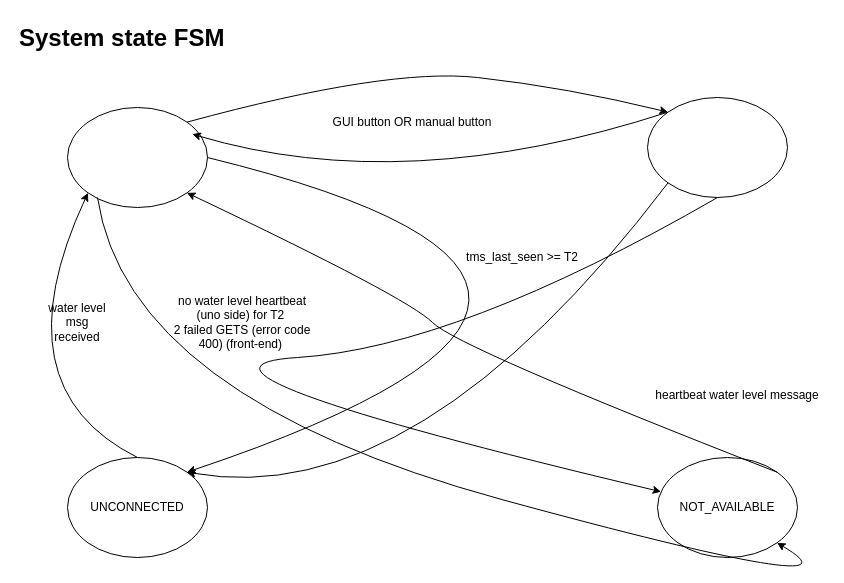
Some shapes in this 844 by 583 pixel diagram are drawn without their labels. The centre of each missing label's shape, as x and y in pixels:
"AUTOMATIC" belongs at point (137, 157).
"MANUAL" belongs at point (717, 147).
